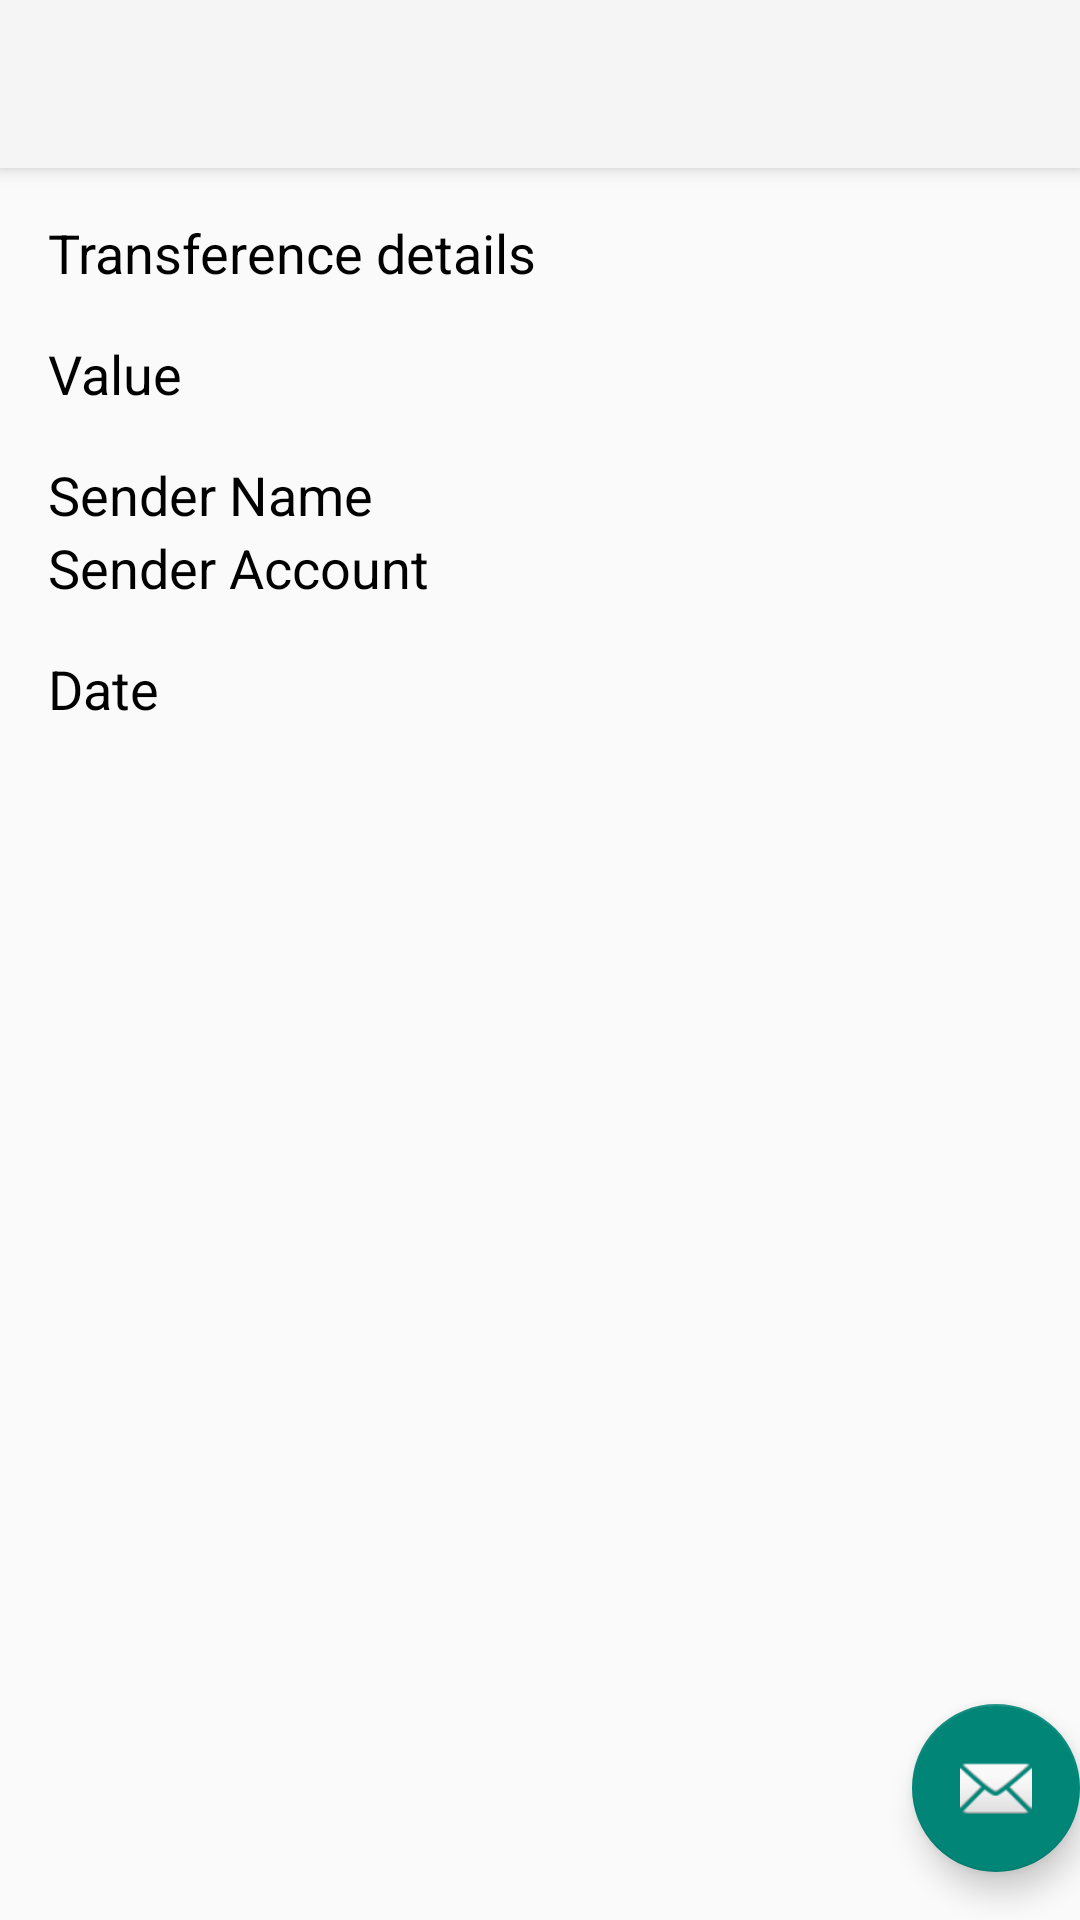

Icons on this 1080x1920 Android screen, each with its box as (x1, y1, x2, y2):
email: (912, 1704, 1080, 1872)
